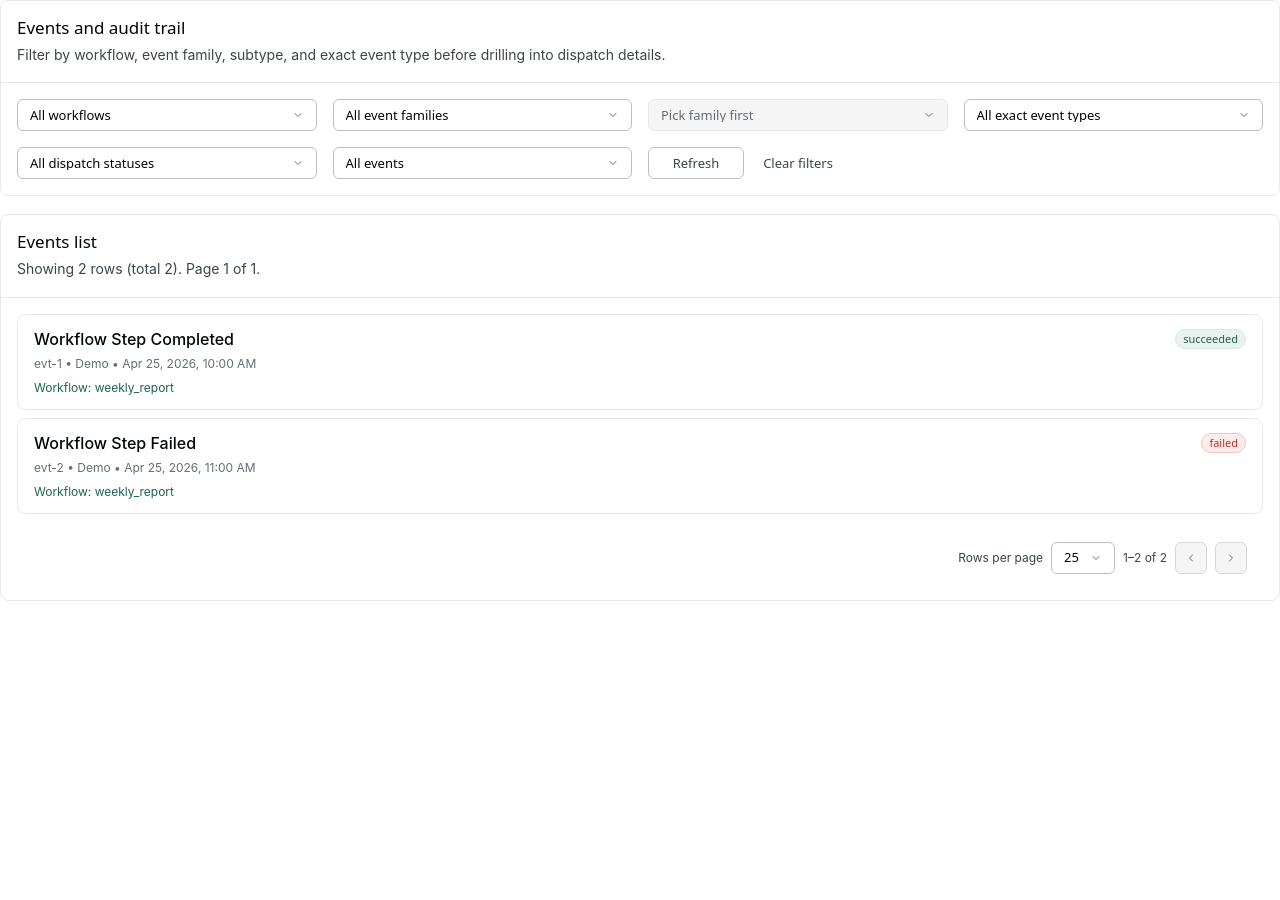
Test: EventsAuditTrail › filters by a period preset expanded from today in the user's zone, with a chip to remove it
Step 1. Click the button with aria-label "Event period: All events" → [375, 163], box [332, 147, 632, 179]
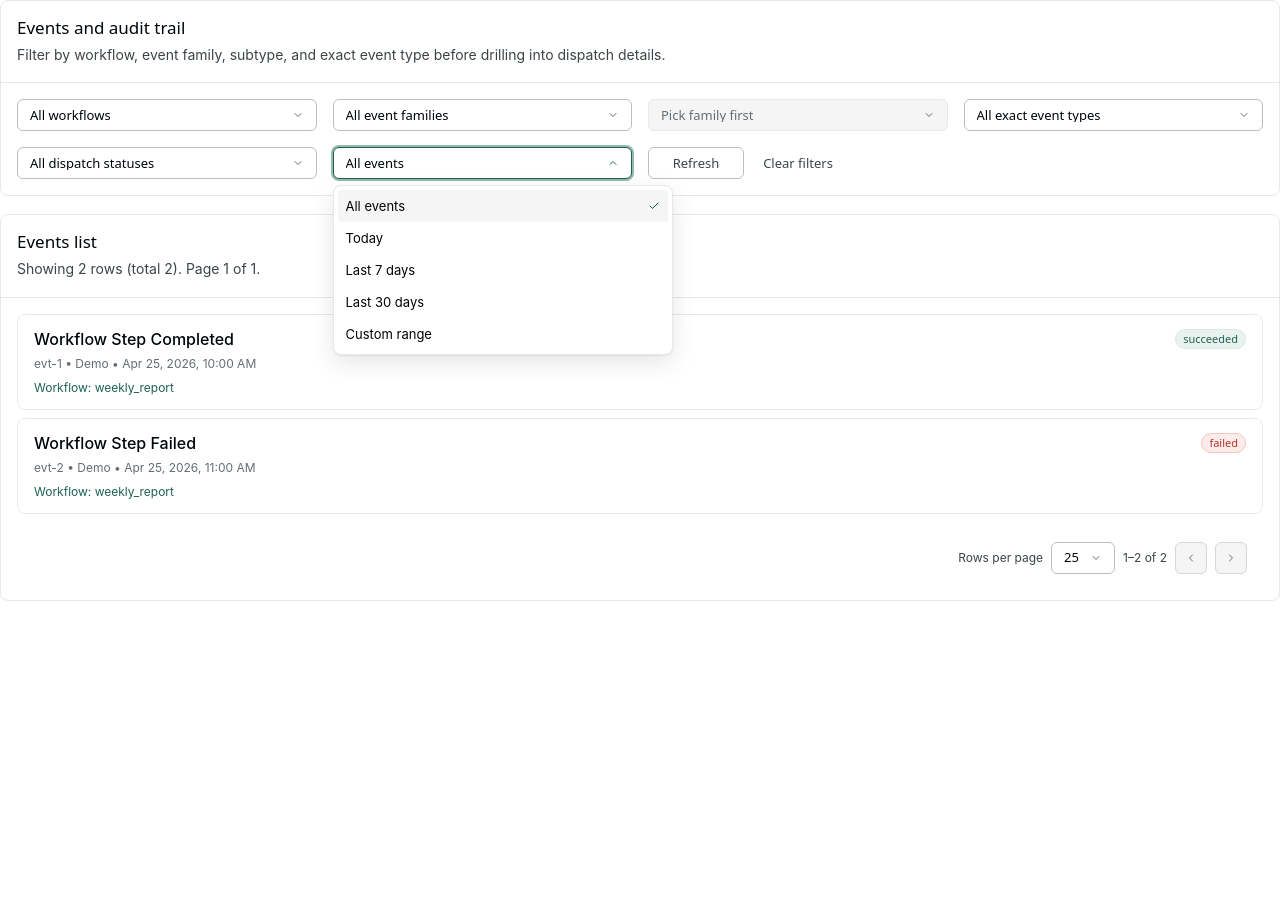
Step 2. Click the radio button labelled "Last 7 days" → [380, 270], box [338, 254, 668, 286]
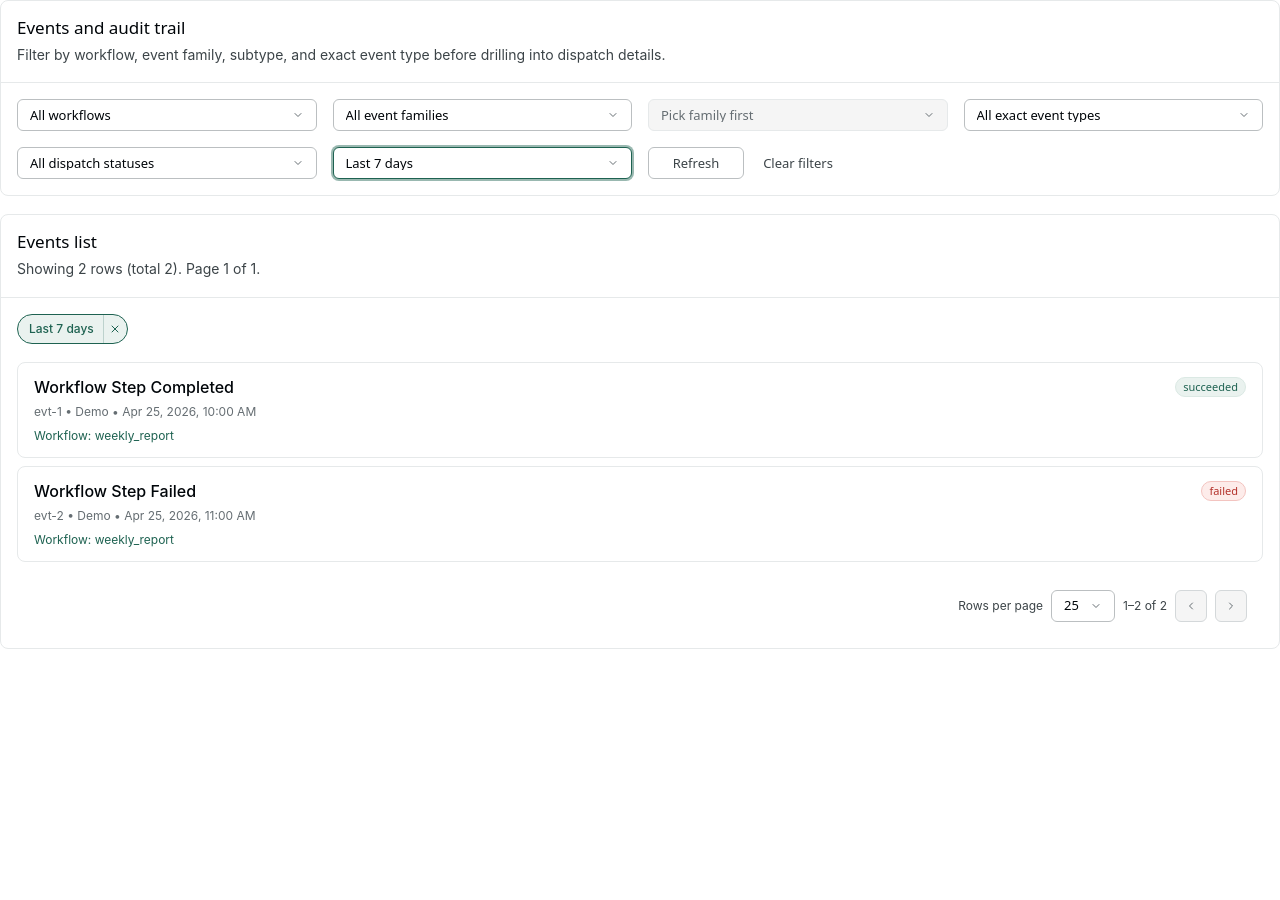
Expected: the element with test id "events-active-filters" reads "Last 7 days", [29, 321, 94, 336]
Step 3. Click the button named "Remove Last 7 days filter" → [115, 329], box [103, 315, 127, 343]
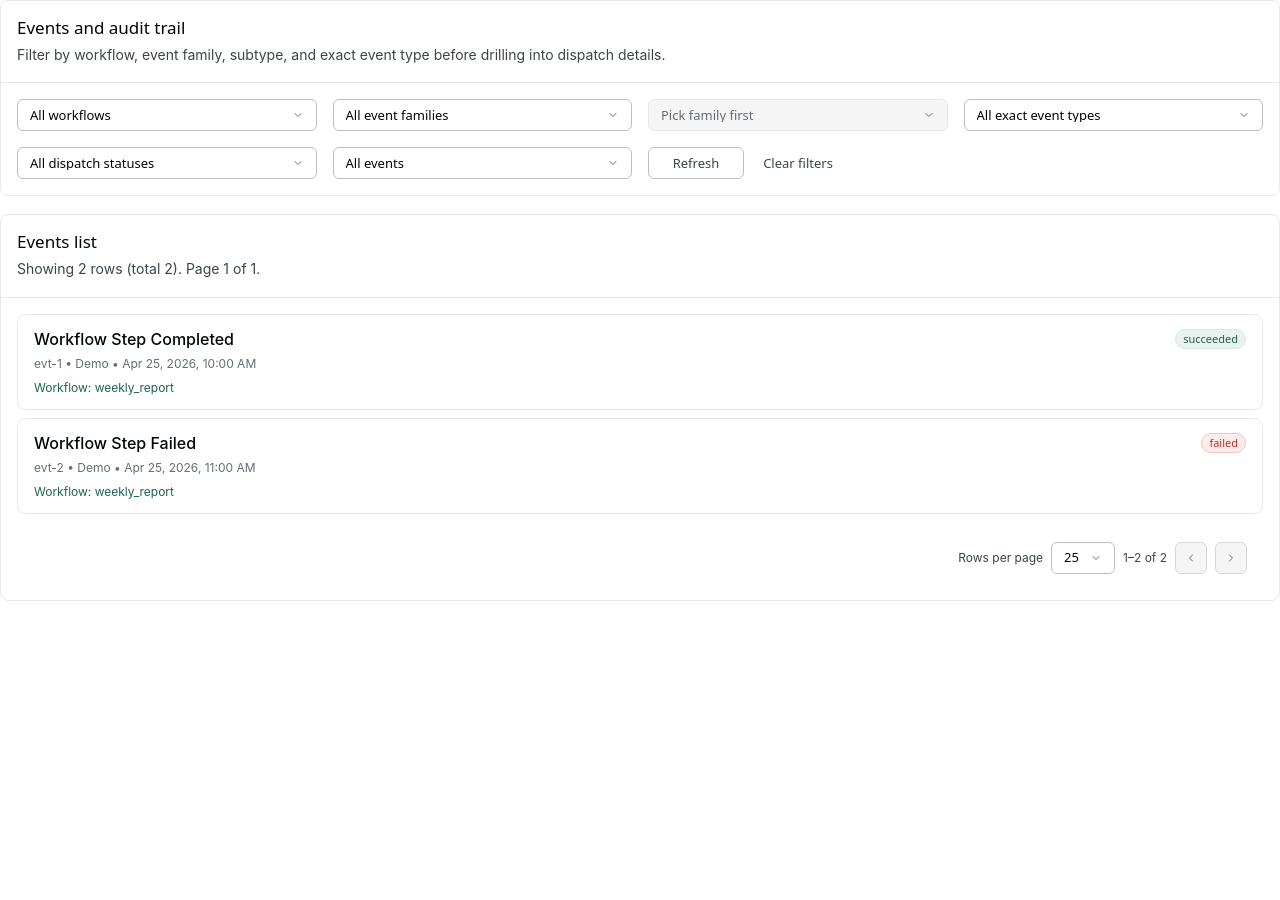
Expected: the button with aria-label "Event period: All events" is shown, [332, 147, 632, 179]
